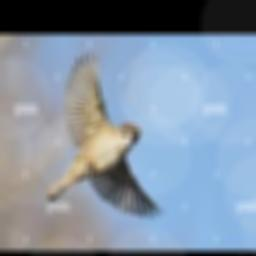Sparrow: (45, 51, 166, 218)
